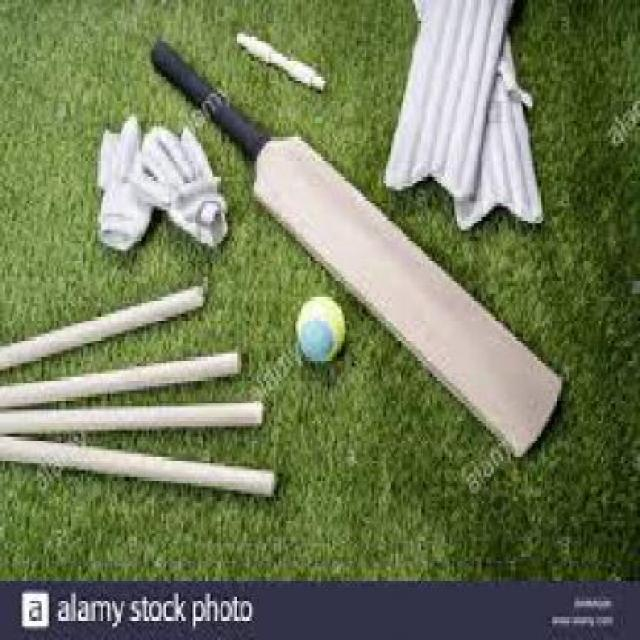ball: (278, 274, 362, 385)
